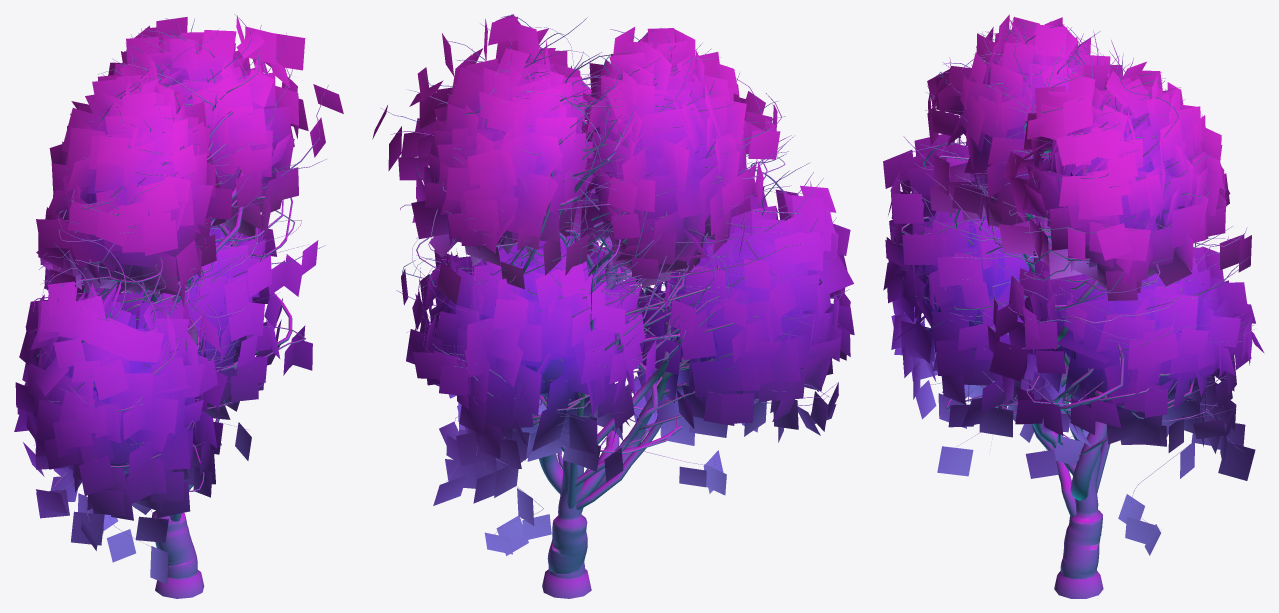
File: tree_birch_s10_a60_x10_wild.fbx
3 renders of one model, left to right at view 1: azimuth 30°, elevation 25°; view 2: azimuth 150°, elevation 25°; view 3: azimuth 270°, elevation 25°, orthographic. The views are drawn at different scales.
Visible parts, largest first — view 1: tree_birch_s10_a60_x10_wild_leaves, tree_birch_s10_a60_x10_wild_branches; view 2: tree_birch_s10_a60_x10_wild_leaves, tree_birch_s10_a60_x10_wild_branches; view 3: tree_birch_s10_a60_x10_wild_leaves, tree_birch_s10_a60_x10_wild_branches.
Boxes of the visible parts, x1=… form: tree_birch_s10_a60_x10_wild_leaves: x1=14, y1=15, x2=343, y2=583; tree_birch_s10_a60_x10_wild_branches: x1=27, y1=14, x2=328, y2=598; tree_birch_s10_a60_x10_wild_leaves: x1=372, y1=14, x2=854, y2=555; tree_birch_s10_a60_x10_wild_branches: x1=381, y1=15, x2=849, y2=598; tree_birch_s10_a60_x10_wild_leaves: x1=883, y1=14, x2=1264, y2=555; tree_birch_s10_a60_x10_wild_branches: x1=890, y1=16, x2=1254, y2=598.
Size of the model in its own units: 7.12 by 9.88 by 6.15.
